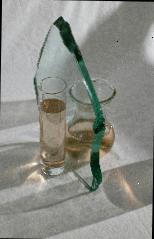glass: (32, 14, 108, 193), (68, 76, 116, 164), (35, 76, 69, 181)
